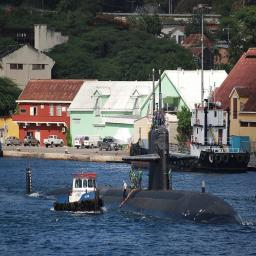submarine: (22, 130, 249, 226)
